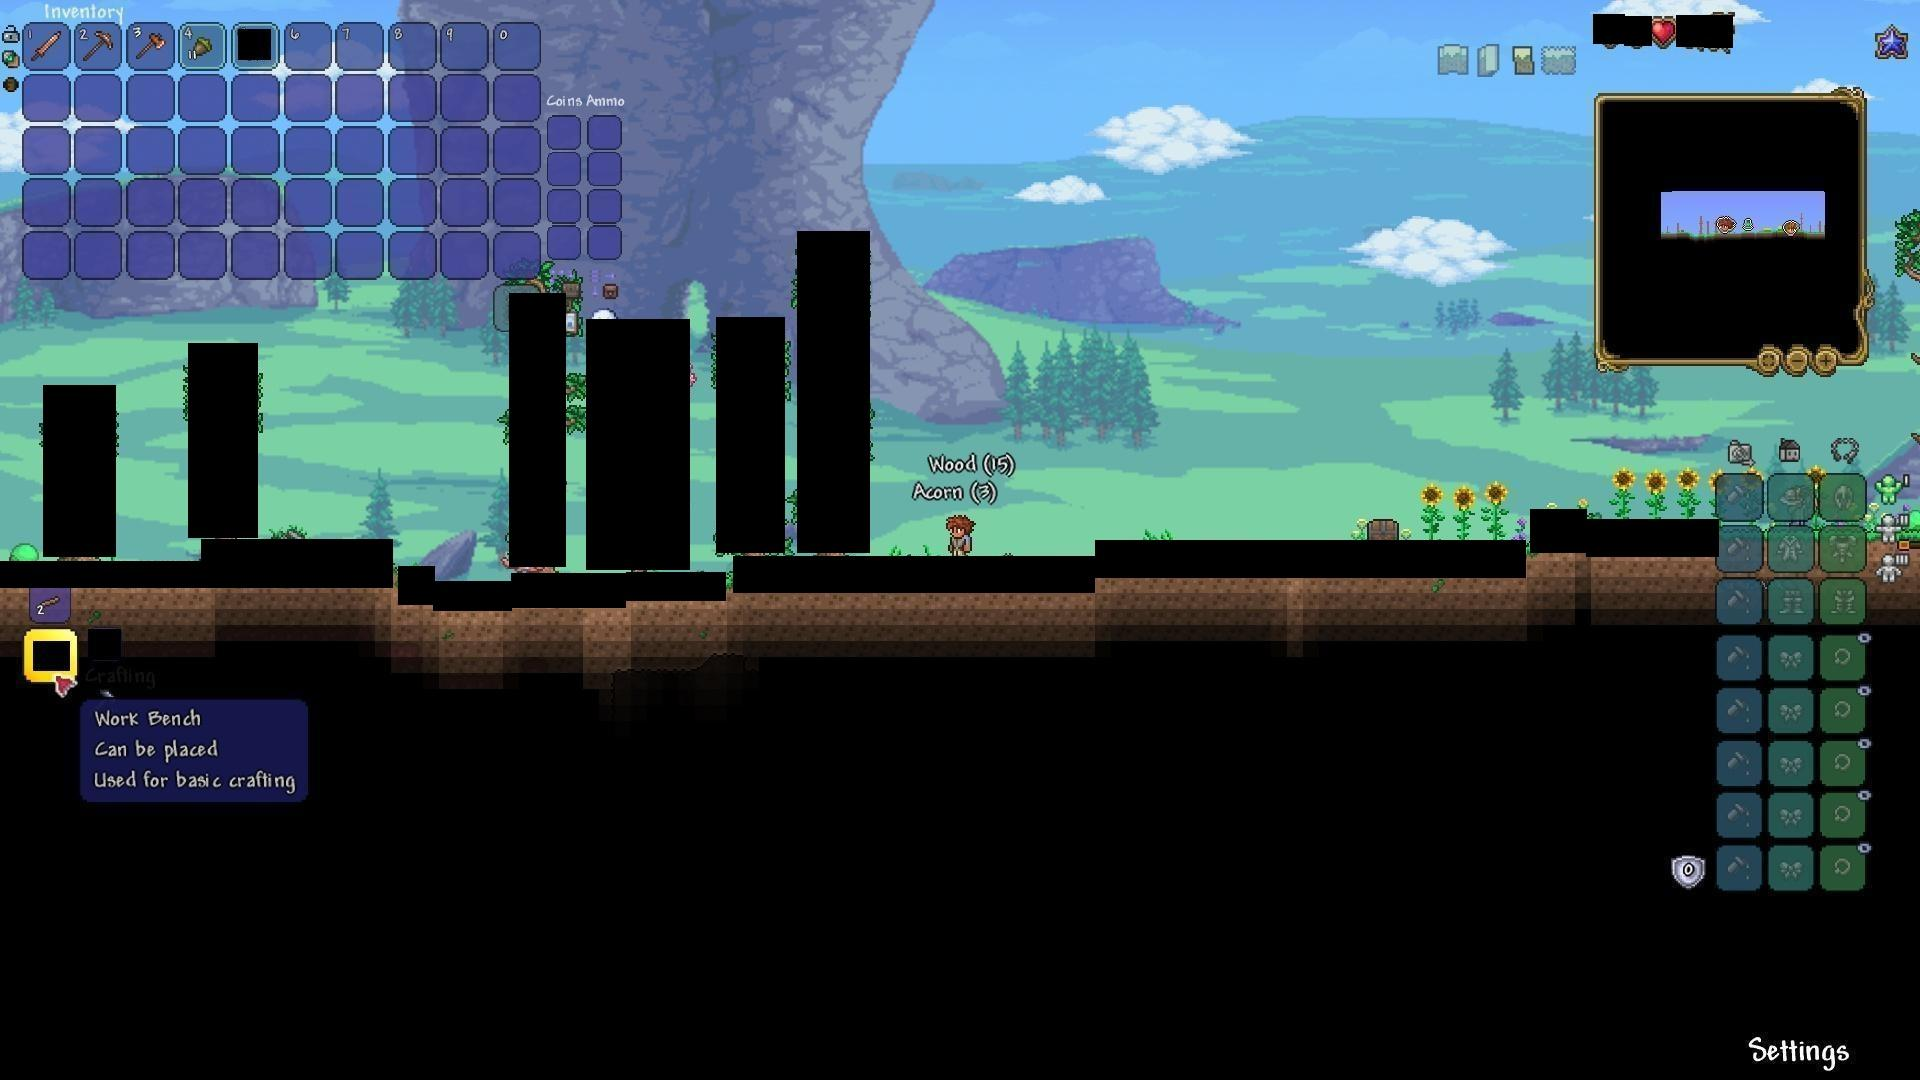heart: (1648, 17, 1676, 47)
slime: (11, 541, 40, 564), (1898, 506, 1920, 534)
